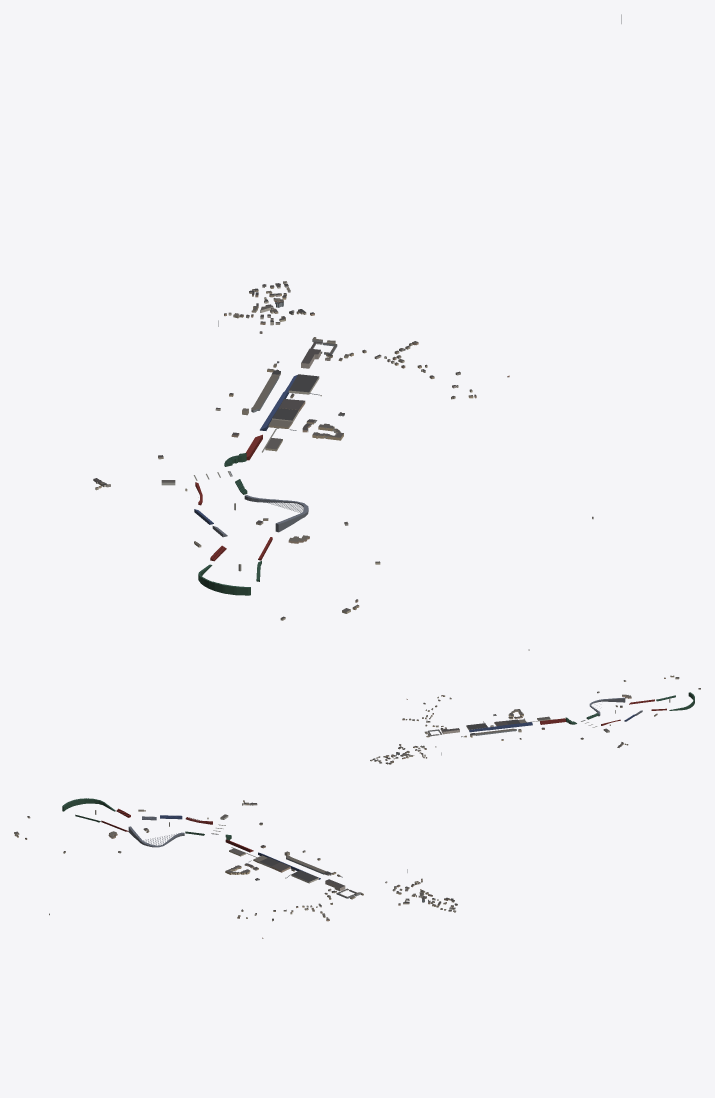
File: scenery.glb
The picture shows the model from 3 angles, top to bottom: view 1: azimuth 30°, elevation 25°; view 2: azimuth 150°, elevation 25°; view 3: azimuth 270°, elevation 25°; orthographic projection. The views are drawn at different scales.
Parts seen in each view (by area): view 1: chunk_15_14, chunk_14_16; view 2: chunk_15_14, chunk_14_16, chunk_16_12, chunk_16_13, chunk_14_15; view 3: chunk_15_14, chunk_14_16.
Part boxes in pixels (x1,y1,x2,y2): chunk_15_14: [215, 375, 343, 460]; chunk_14_16: [212, 495, 309, 581]; chunk_15_14: [469, 709, 566, 739]; chunk_14_16: [589, 694, 675, 716]; chunk_16_12: [385, 745, 441, 764]; chunk_16_13: [424, 725, 475, 737]; chunk_14_15: [565, 710, 635, 732]; chunk_15_14: [225, 839, 326, 879]; chunk_14_16: [75, 814, 184, 847].
Bounding box in the file's own units: 3618 × 122 × 3730.
